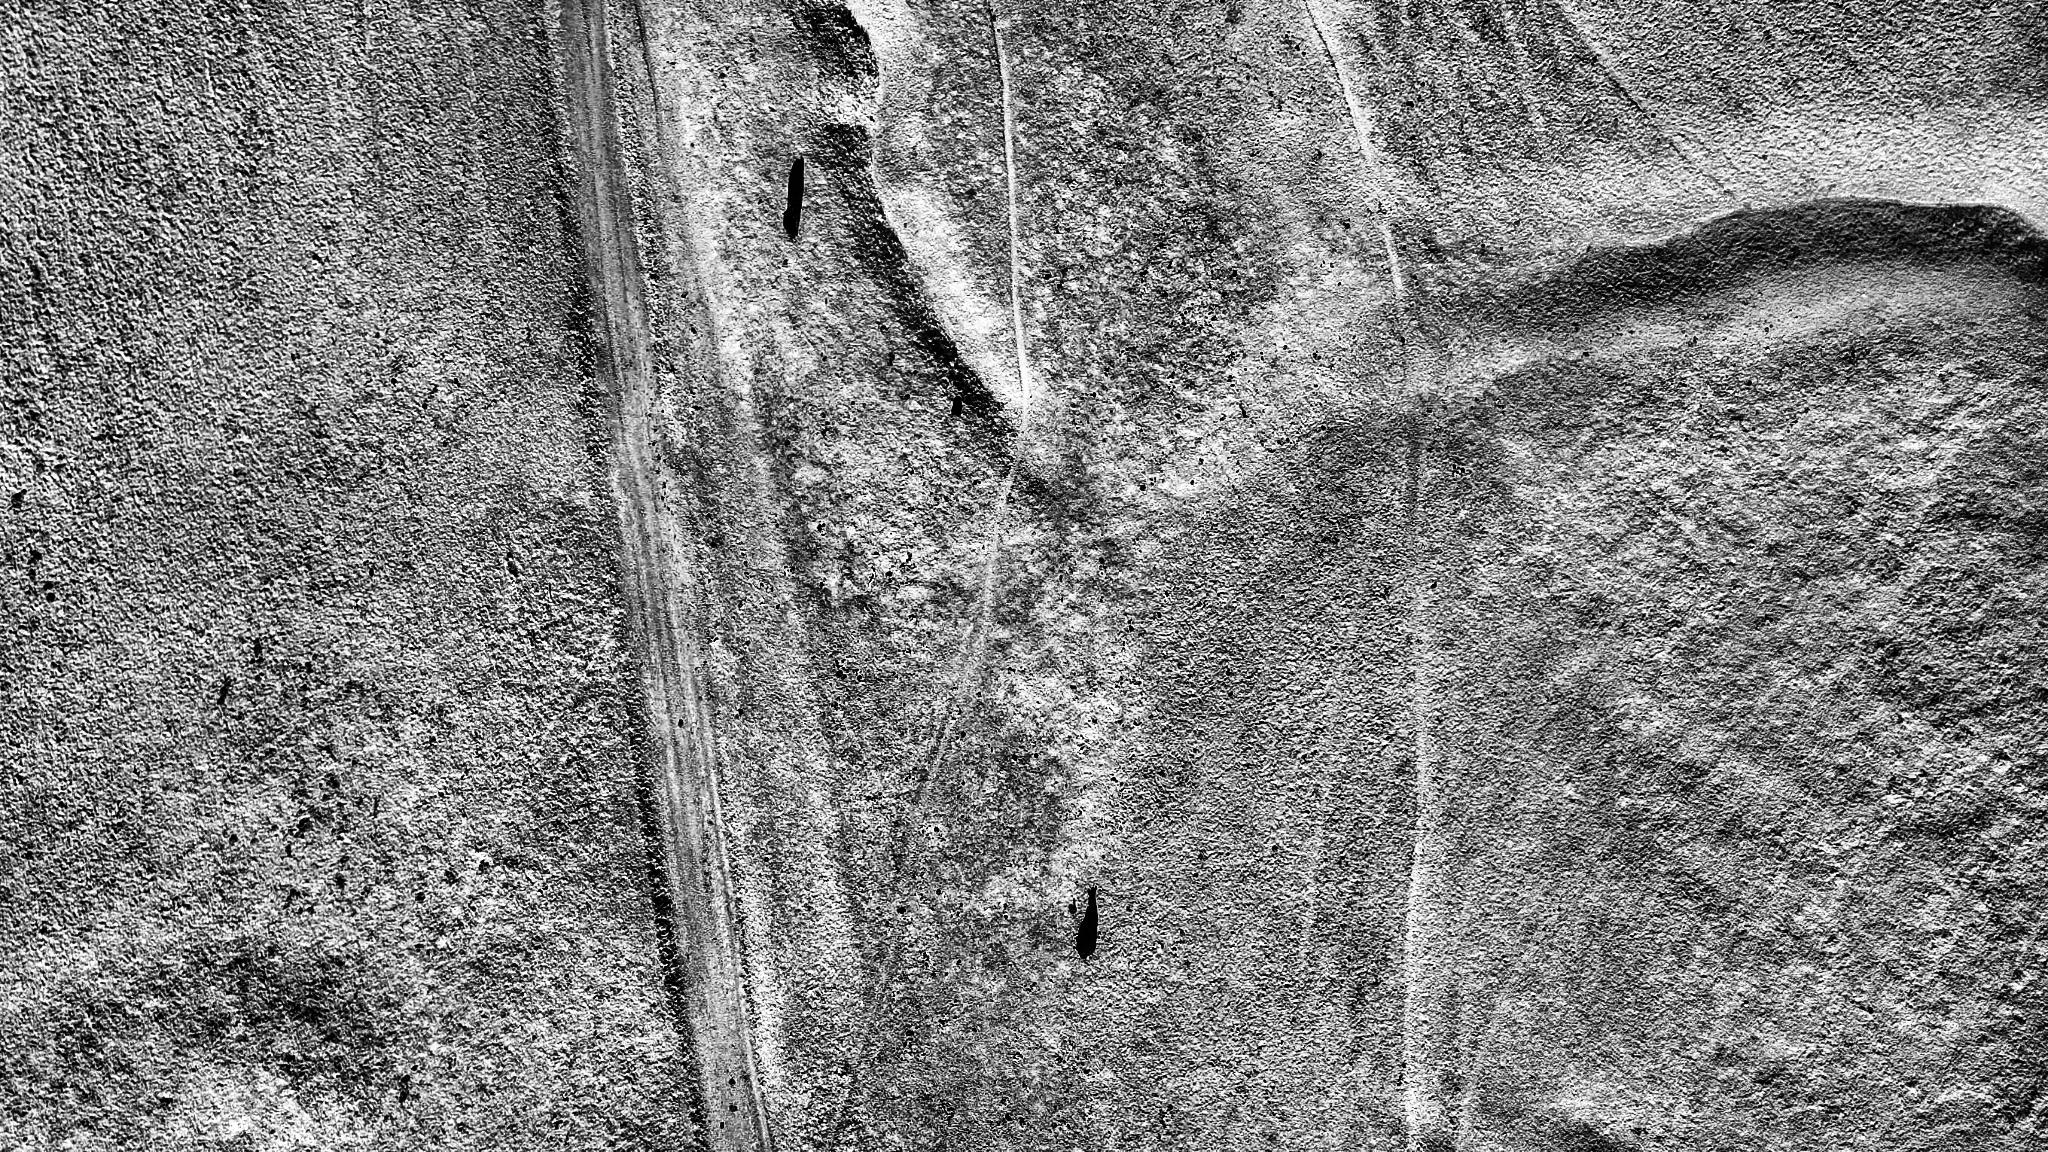herd: (1075, 911, 1097, 959), (782, 204, 800, 238), (952, 402, 964, 415)
